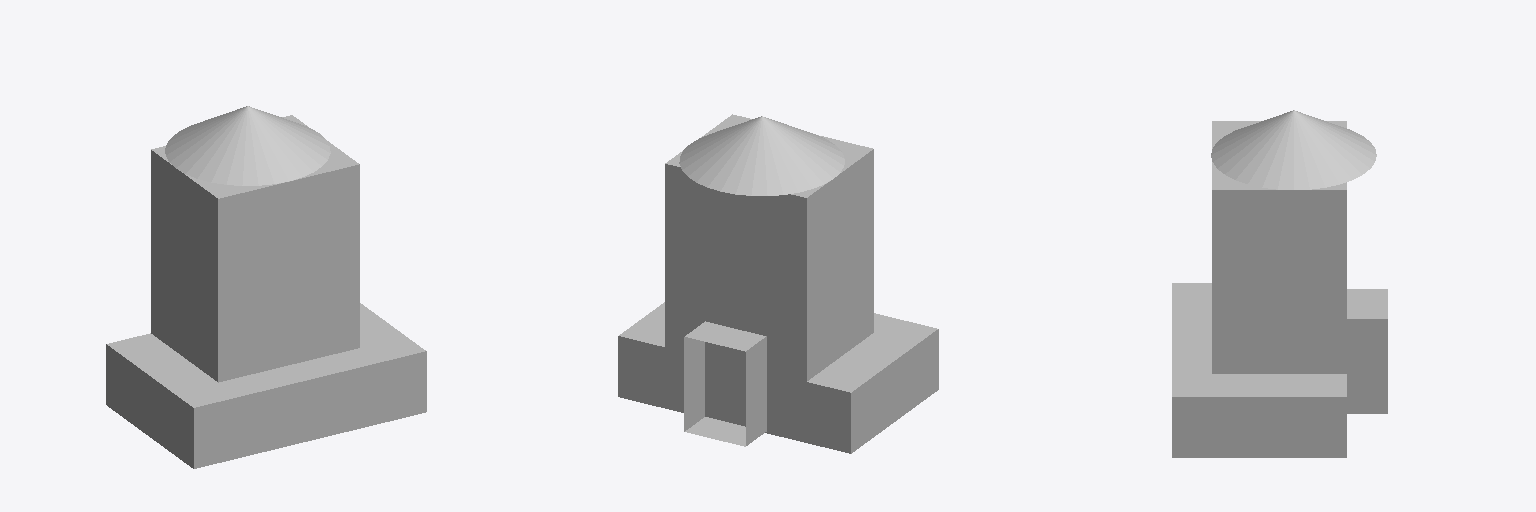
The model's file is casita.obj.
3 renders of one model, left to right at view 1: azimuth 30°, elevation 25°; view 2: azimuth 150°, elevation 25°; view 3: azimuth 270°, elevation 25°, orthographic.
Parts seen in each view (by area): view 1: Cube, Cone; view 2: Cube, Cone, Cube.001; view 3: Cube, Cone, Cube.001.
Boxes of the visible parts, box(x1,y1,x2,y2) form: Cube: box(106, 115, 426, 468); Cone: box(165, 106, 330, 185); Cube: box(618, 114, 938, 453); Cone: box(679, 116, 844, 195); Cube.001: box(684, 321, 766, 446); Cube: box(1172, 121, 1346, 457); Cone: box(1211, 110, 1376, 189); Cube.001: box(1347, 289, 1387, 413).
Bounding box in the file's own units: 5.11 × 6.1 × 4.12.